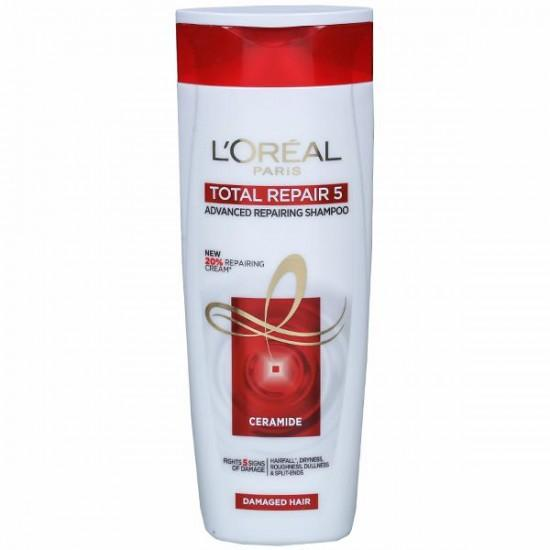Loreal: (175, 6, 376, 545)
